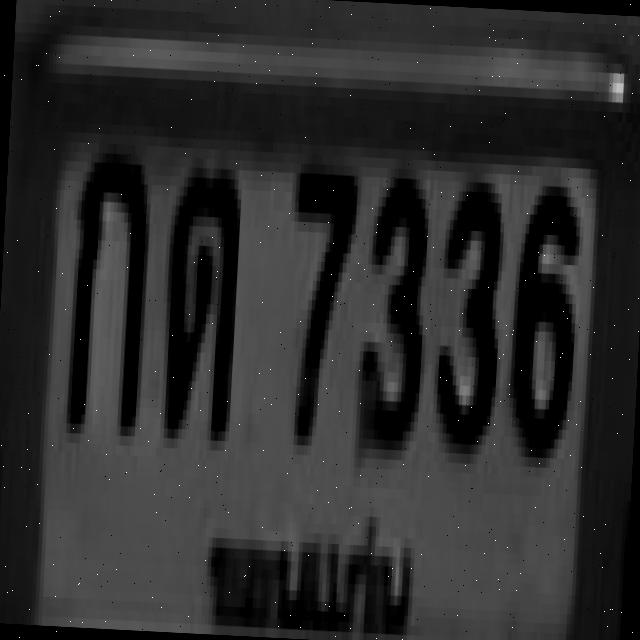10GorGai: (63, 143, 150, 427)
3: (352, 158, 428, 442), (432, 171, 504, 445)
30TorTao: (156, 156, 240, 432)
6: (504, 170, 580, 444)
7: (280, 154, 356, 438)
KhonKaen: (196, 502, 424, 640)
